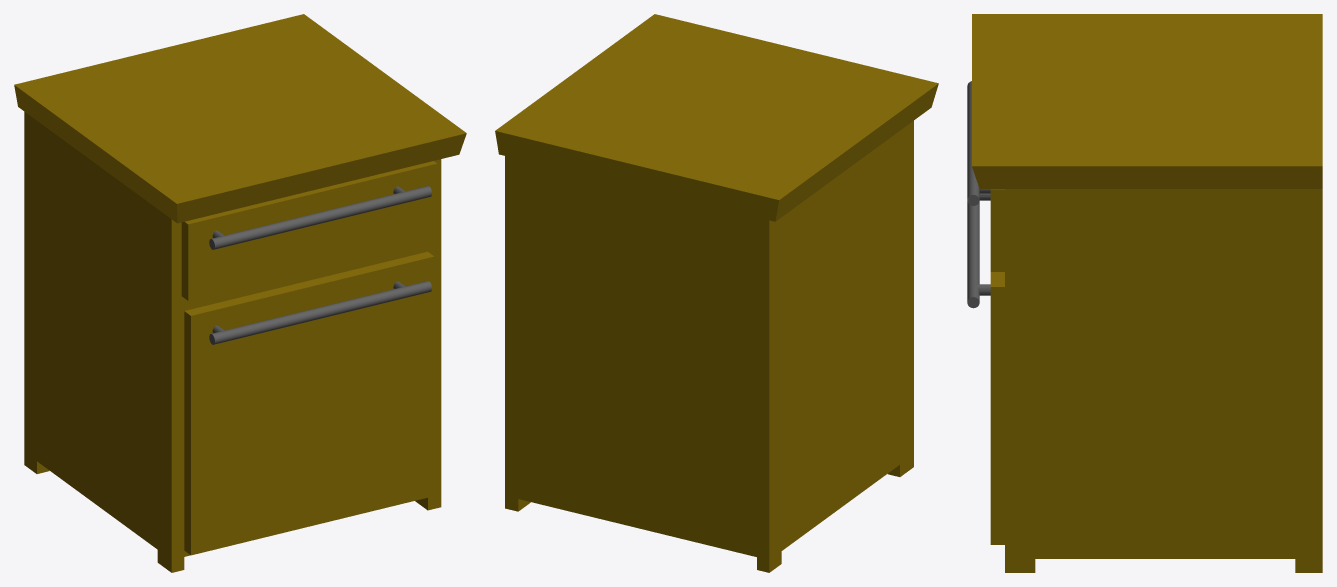
Rendered from Nighstand_Smol.fbx.
The picture shows the model from 3 angles, left to right: view 1: azimuth 30°, elevation 25°; view 2: azimuth 150°, elevation 25°; view 3: azimuth 270°, elevation 25°; orthographic projection. The views are drawn at different scales.
Visible parts, largest first — view 1: NighstandBase, Nightstand_BottomDrawer, Nightstand_TopDrawer; view 2: NighstandBase; view 3: NighstandBase, Nightstand_BottomDrawer, Nightstand_TopDrawer.
Part boxes in pixels (x1,y1,x2,y2): NighstandBase: (14,14,466,572); Nightstand_BottomDrawer: (184,251,434,555); Nightstand_TopDrawer: (181,161,437,300); NighstandBase: (495,14,938,572); NighstandBase: (972,14,1322,572); Nightstand_BottomDrawer: (967,193,1004,544); Nightstand_TopDrawer: (967,81,1004,271).
Bounding box in the file's own units: 58.6 × 73.92 × 57.78.
